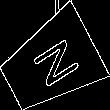N_SW: (22, 33, 80, 93)
